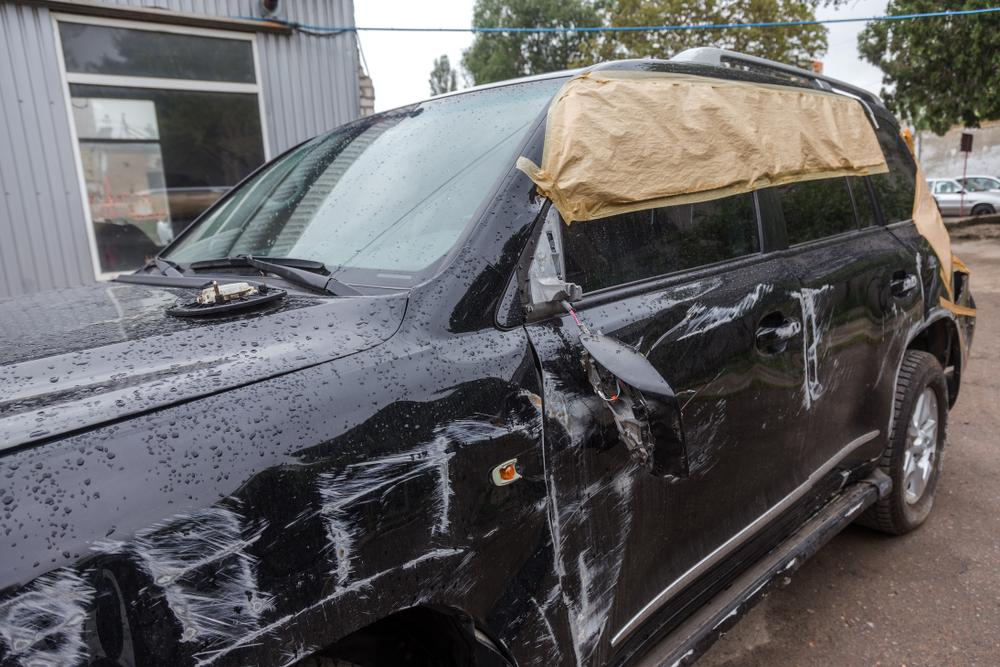scratch: (0, 415, 582, 667), (543, 372, 639, 667), (682, 371, 731, 483), (669, 281, 765, 337), (795, 283, 836, 406)
